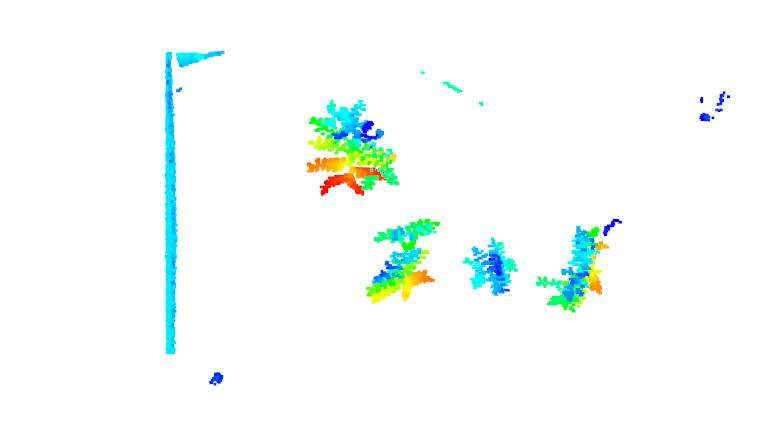chickpea: (304, 99, 403, 198), (364, 218, 441, 303), (534, 226, 608, 313), (464, 238, 520, 296)
